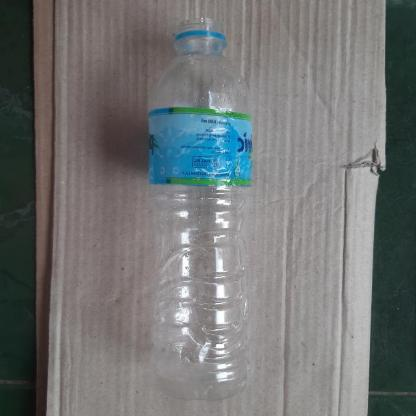Plastic Bottle: (144, 15, 250, 405)
